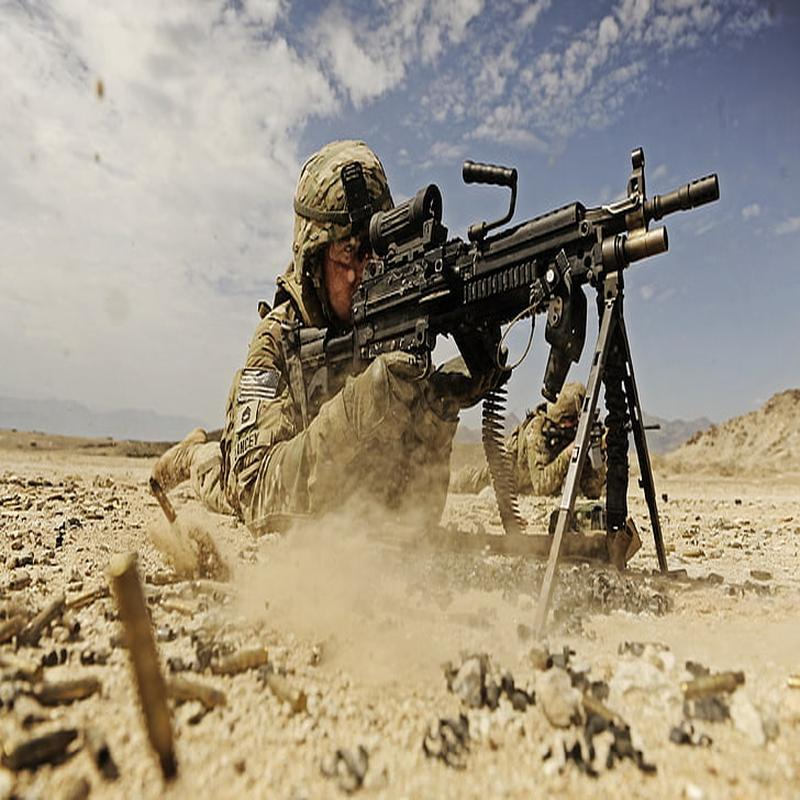GUN: (269, 131, 745, 581)
